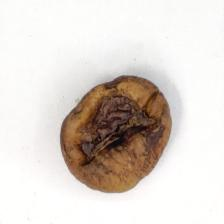NG: (61, 82, 115, 189), (114, 74, 166, 163)
